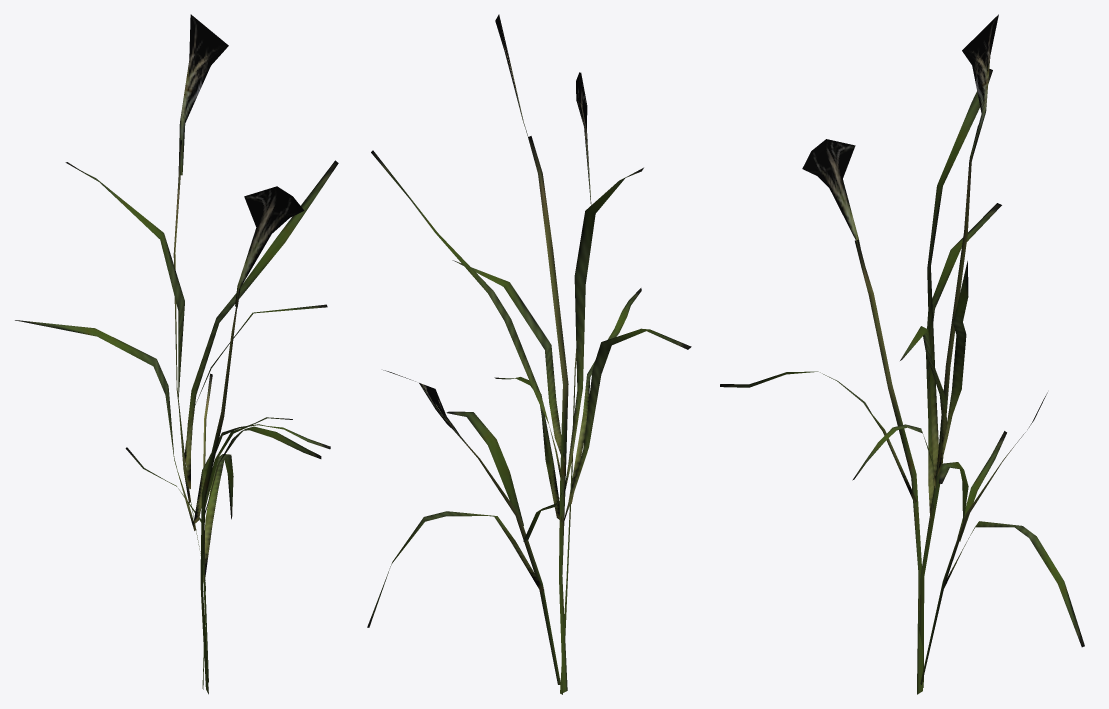
Rendered from grass_tuft_a.glb.
3 views of the same model, side by side, from view 1: azimuth 30°, elevation 25°; view 2: azimuth 150°, elevation 25°; view 3: azimuth 270°, elevation 25° (orthographic). The views are drawn at different scales.
Parts seen in each view (by area): view 1: grass_tuft_a; view 2: grass_tuft_a; view 3: grass_tuft_a.
Part boxes in pixels (x1,y1,x2,y2): grass_tuft_a: (15,14,338,694); grass_tuft_a: (367,14,691,694); grass_tuft_a: (720,14,1084,694).
Bounding box in the file's own units: 0.161 × 0.3225 × 0.1585.
Materials: 1 (1 with a texture image).
